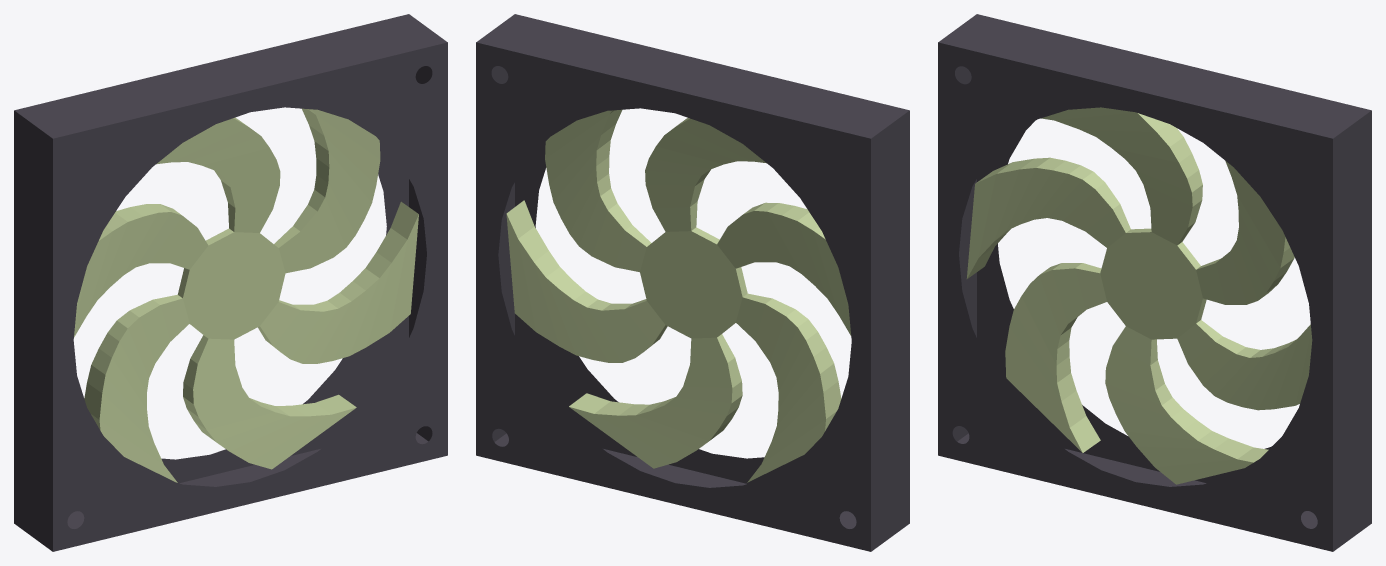
Rendered from Pc fan.fbx.
The picture shows the model from 3 angles, left to right: view 1: azimuth 30°, elevation 25°; view 2: azimuth 150°, elevation 25°; view 3: azimuth 330°, elevation 25°; orthographic projection.
Visible parts, largest first — view 1: Cube, Cylinder; view 2: Cube, Cylinder; view 3: Cube, Cylinder.
Part boxes in pixels (x1,y1,x2,y2): Cube: (14, 14, 447, 551); Cylinder: (74, 108, 418, 482); Cube: (476, 14, 909, 551); Cylinder: (506, 109, 851, 482); Cube: (938, 14, 1371, 551); Cylinder: (966, 107, 1312, 484).
Size of the model in its own units: 200 by 200 by 34.03.
